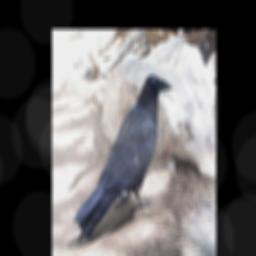Crow: (74, 72, 173, 245)
